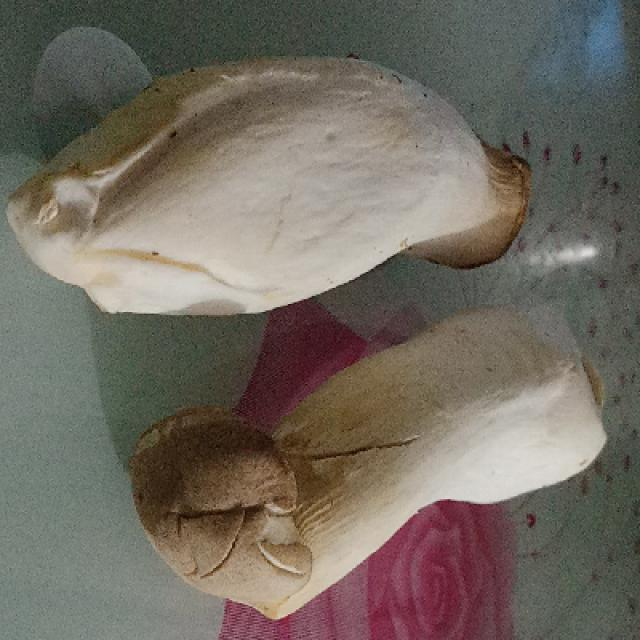Pleurotus eryngii: (132, 307, 611, 621), (7, 59, 528, 318)
